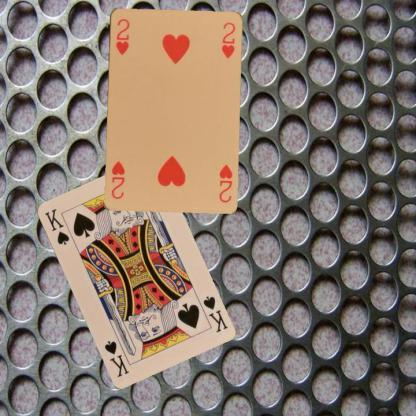2h: (216, 162, 234, 204), (113, 16, 130, 56)
Ks: (200, 293, 229, 334), (42, 206, 70, 246)
